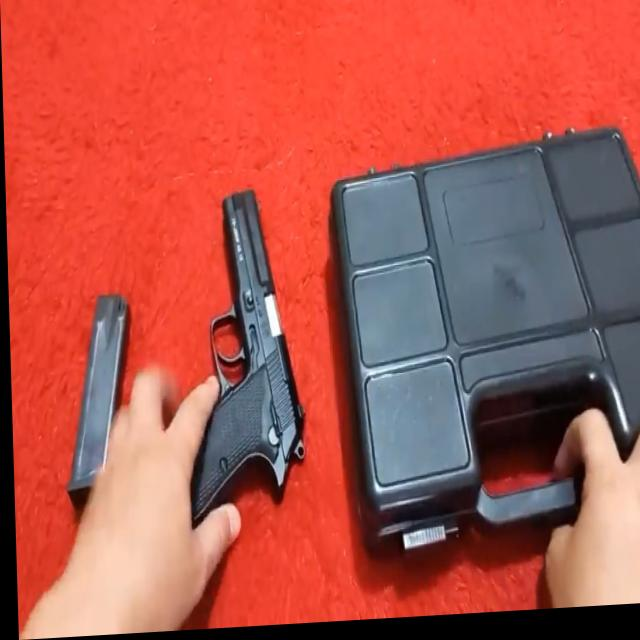handgun: (183, 177, 303, 524)
